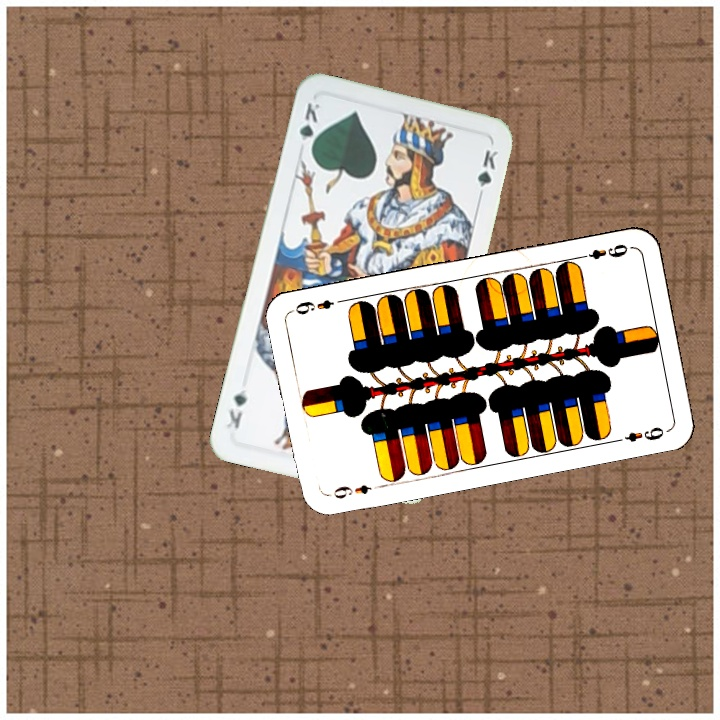E9: (575, 239, 633, 262), (325, 480, 384, 502)
GK: (295, 98, 323, 156)
